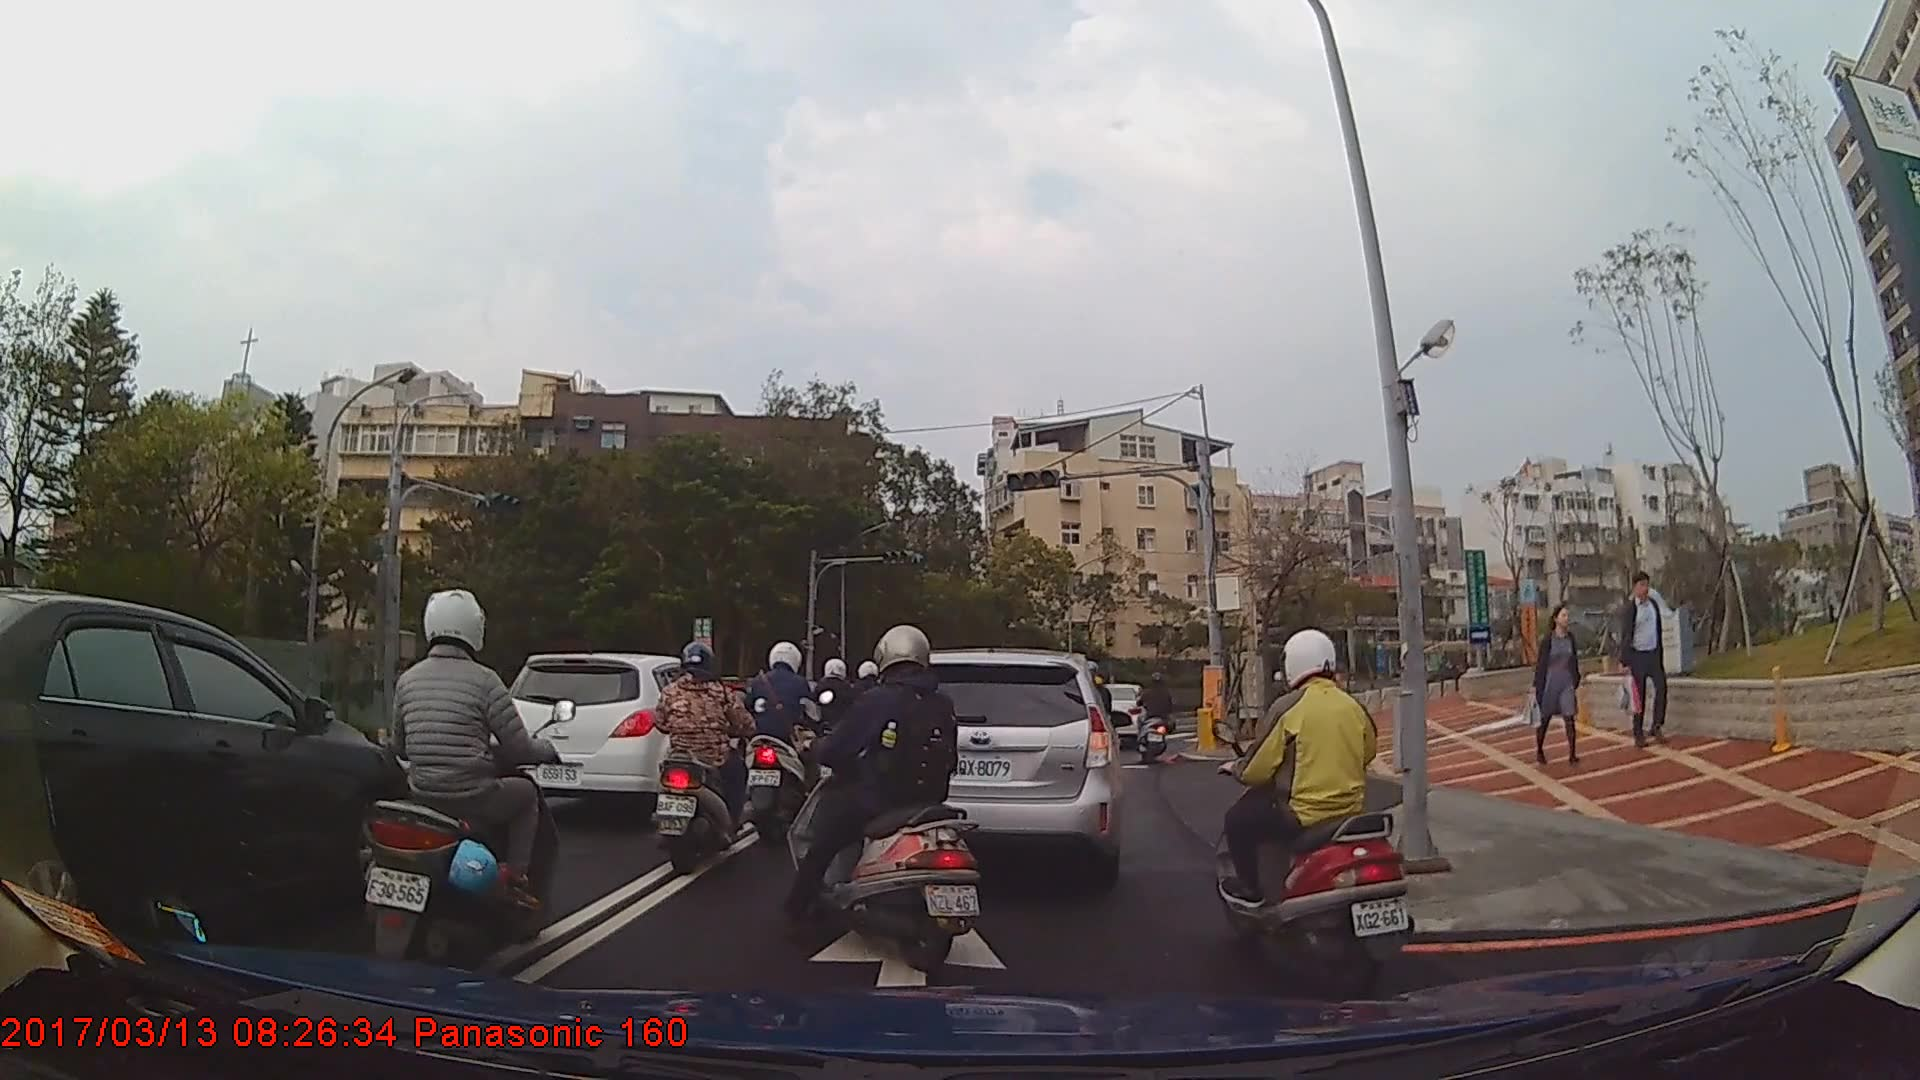pedestrian: (1615, 575, 1681, 749), (1523, 603, 1589, 771)
rider: (358, 588, 566, 981), (1214, 633, 1422, 990), (786, 626, 987, 981), (650, 643, 755, 879), (736, 636, 829, 843), (1138, 672, 1178, 759)
vehicle: (0, 587, 420, 954), (852, 647, 1121, 884), (495, 651, 752, 821)
